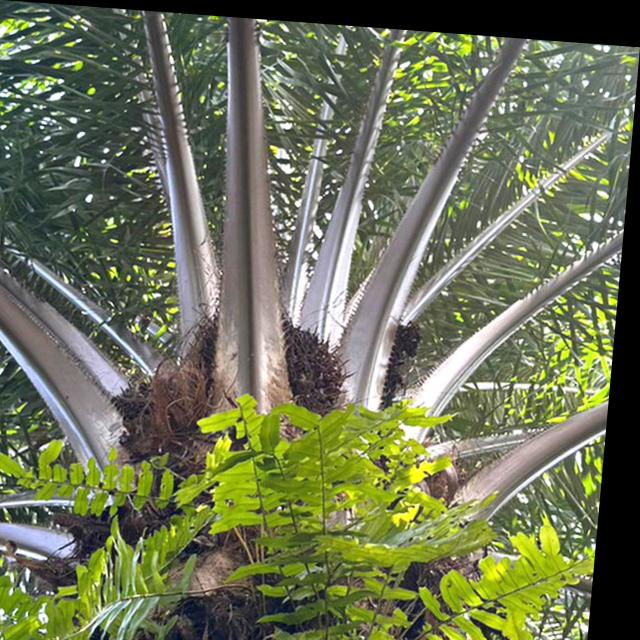ripe: (173, 286, 364, 421)
